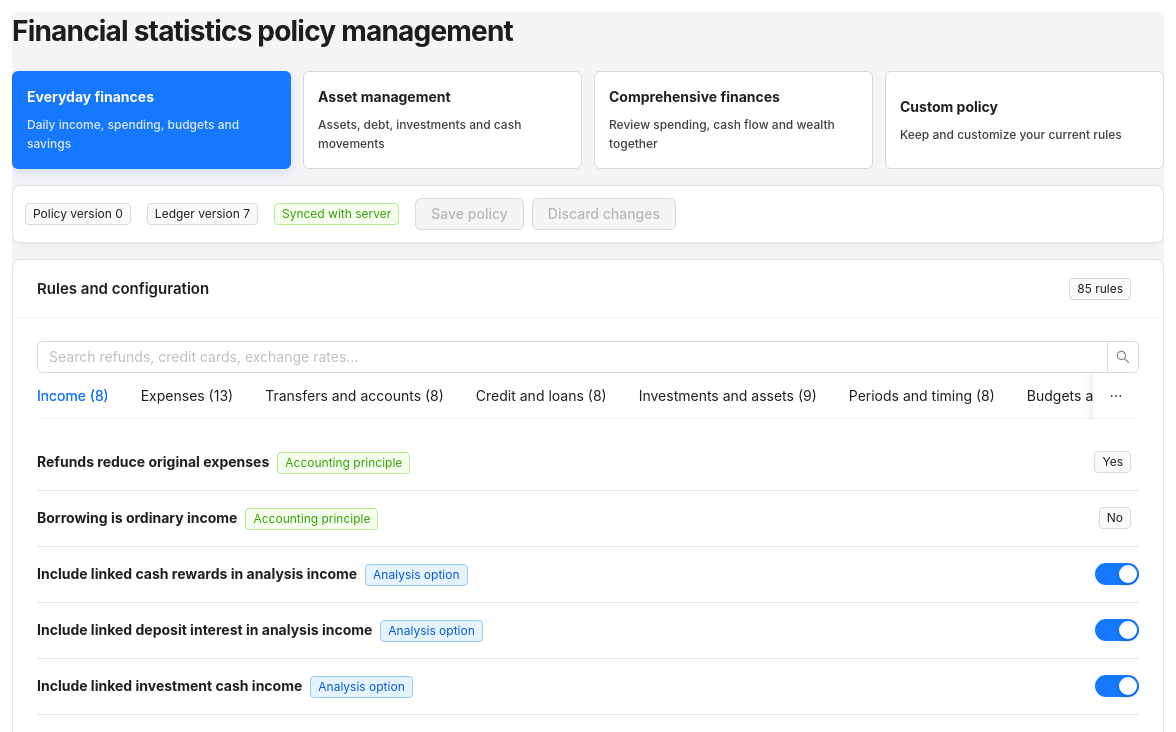
shows English labels and switches module controls without mutating ledger facts
Expected: the switch named "Include linked cash rewards in analysis income" is shown, [1095, 563, 1139, 585]
Step 1. Click the tab "Periods and timing (8)" → [922, 396], box [849, 385, 995, 407]
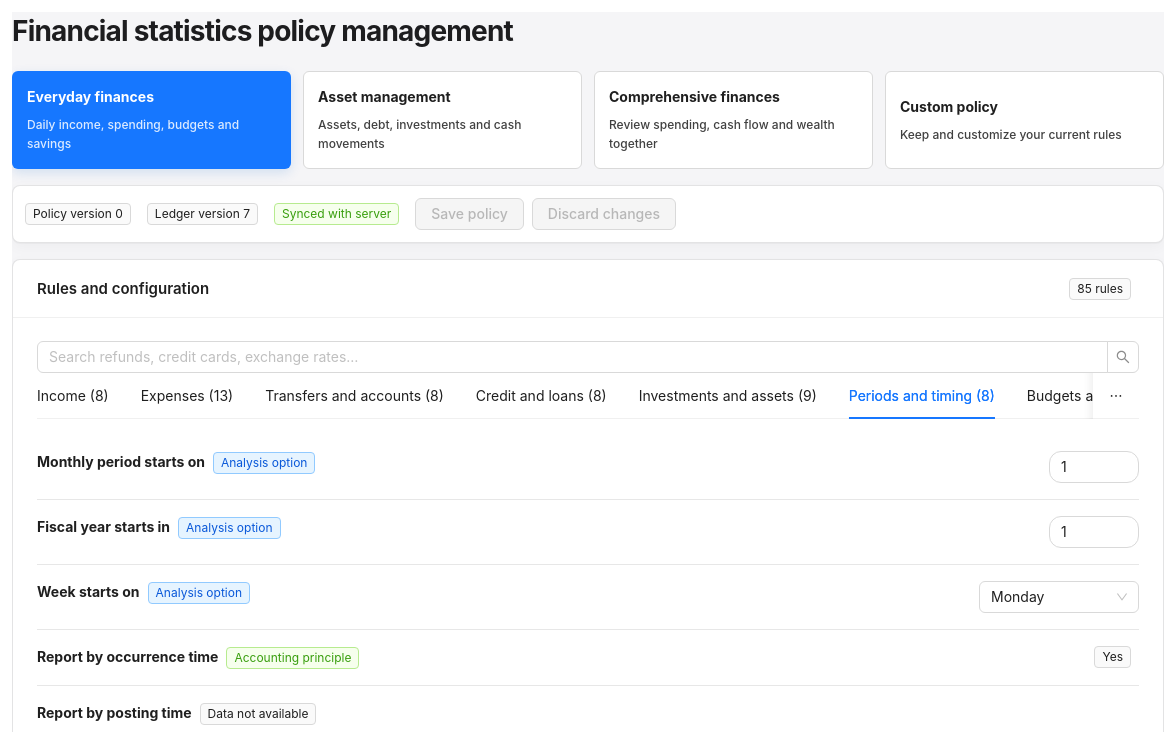
Expected: the number field named "Monthly period starts on" holds "1", [1050, 452, 1138, 482]
